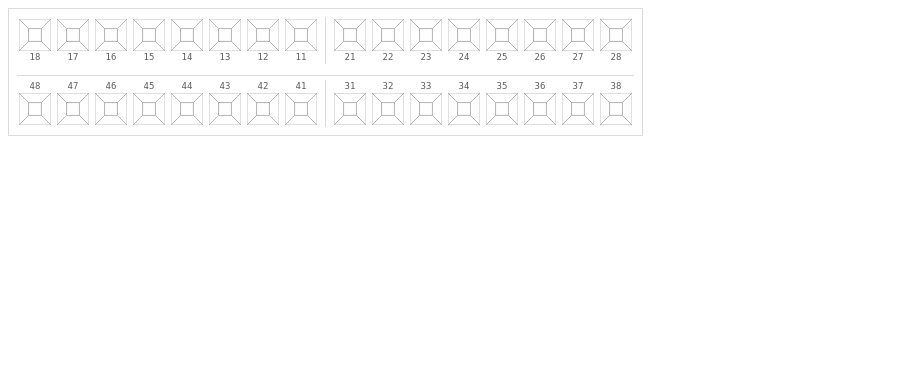
Scenario: Odontogram — interactivity › clicking a tooth in interactive mode opens the detail panel
The image size is (921, 373).
Click the button "11": click(301, 40) x1=283 y1=17 x2=319 y2=64
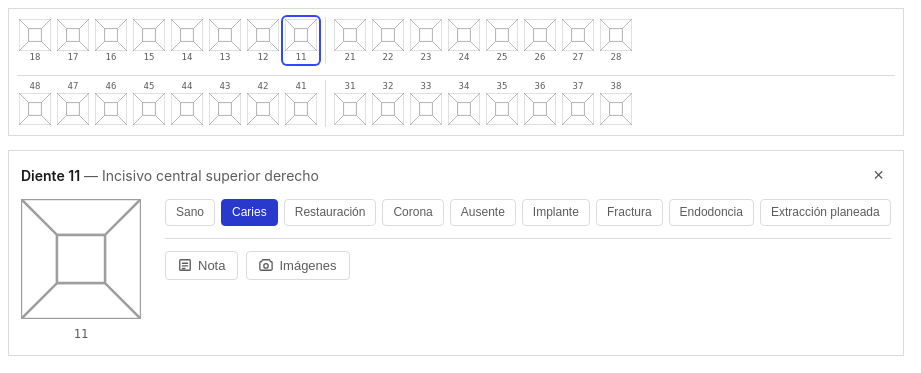
Check: the element with test id "tooth-detail-panel" is shown, box x1=8 y1=150 x2=904 y2=356
